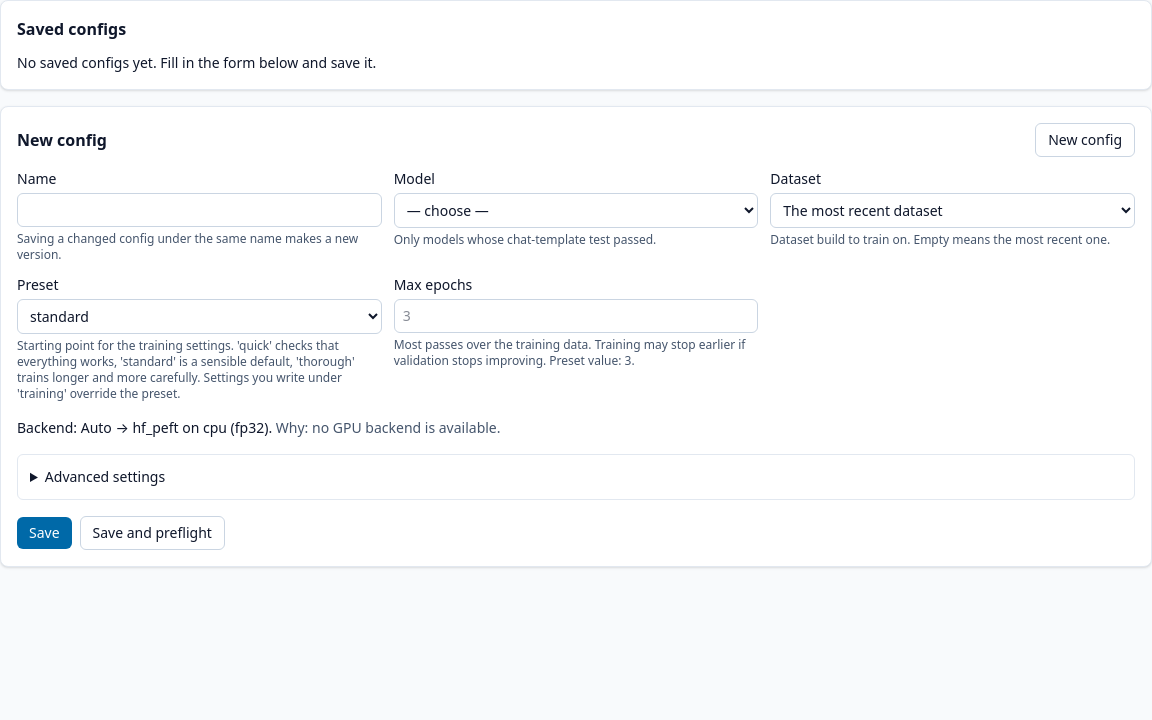
Test: Training config › lists only the hardware this machine has, and says why the rest isn't there
Check: the text "Auto → hf_peft" is shown, box [17, 418, 500, 437]
Click the heading "Advanced settings": (105, 476) [45, 467, 165, 486]
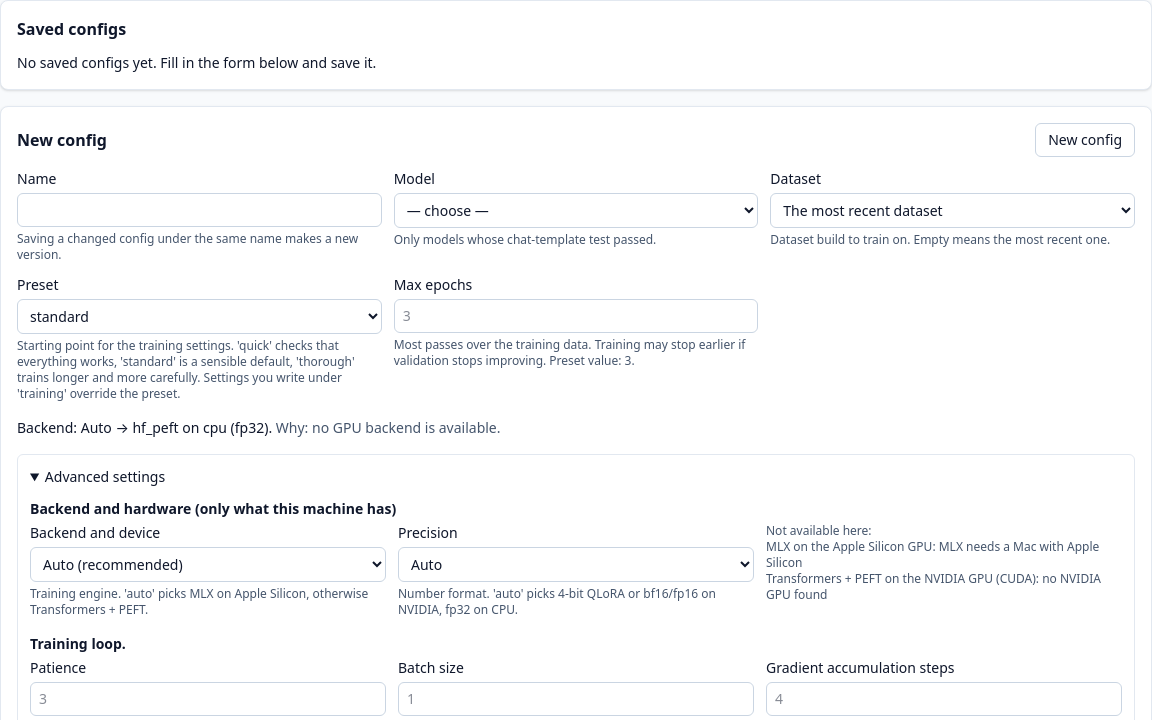
Check: the list named "Not available here" shows "no NVIDIA GPU found", box [766, 570, 1101, 603]
Select "Transformers + PEFT on the CPU" in the dropdown labelled "Backend and device": (208, 564) [30, 547, 386, 582]
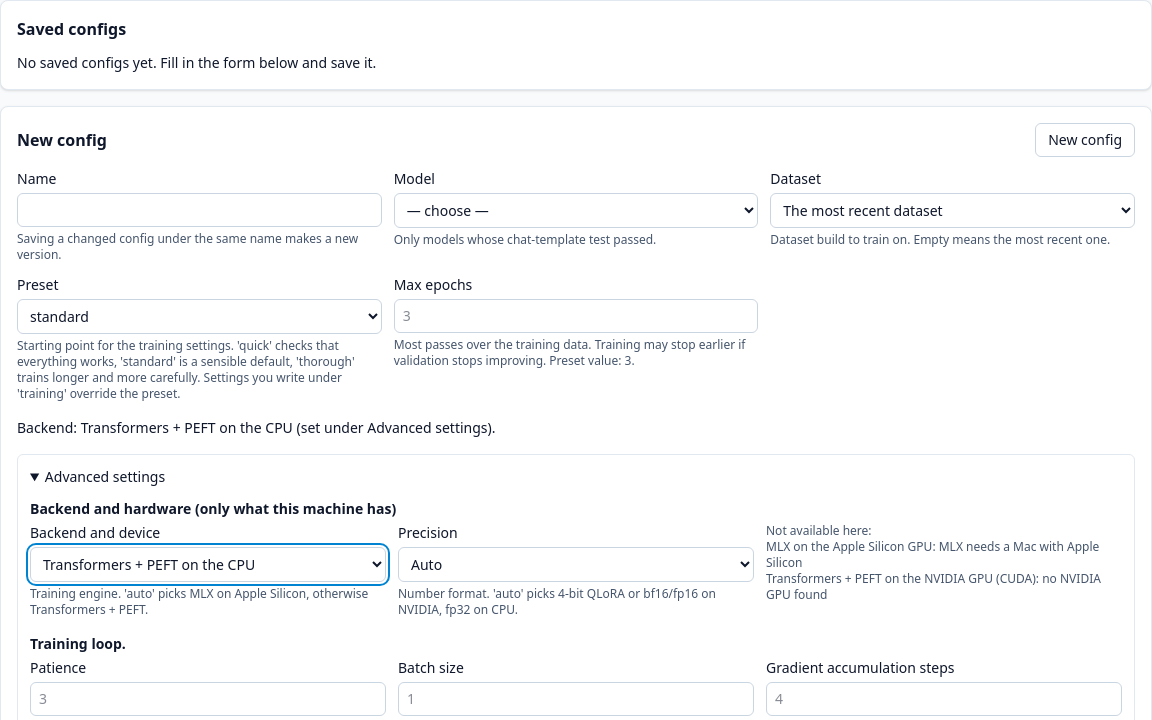
Check: the text "Transformers + PEFT on the CPU (set under Advanced settings)" is shown, box [17, 418, 496, 437]
